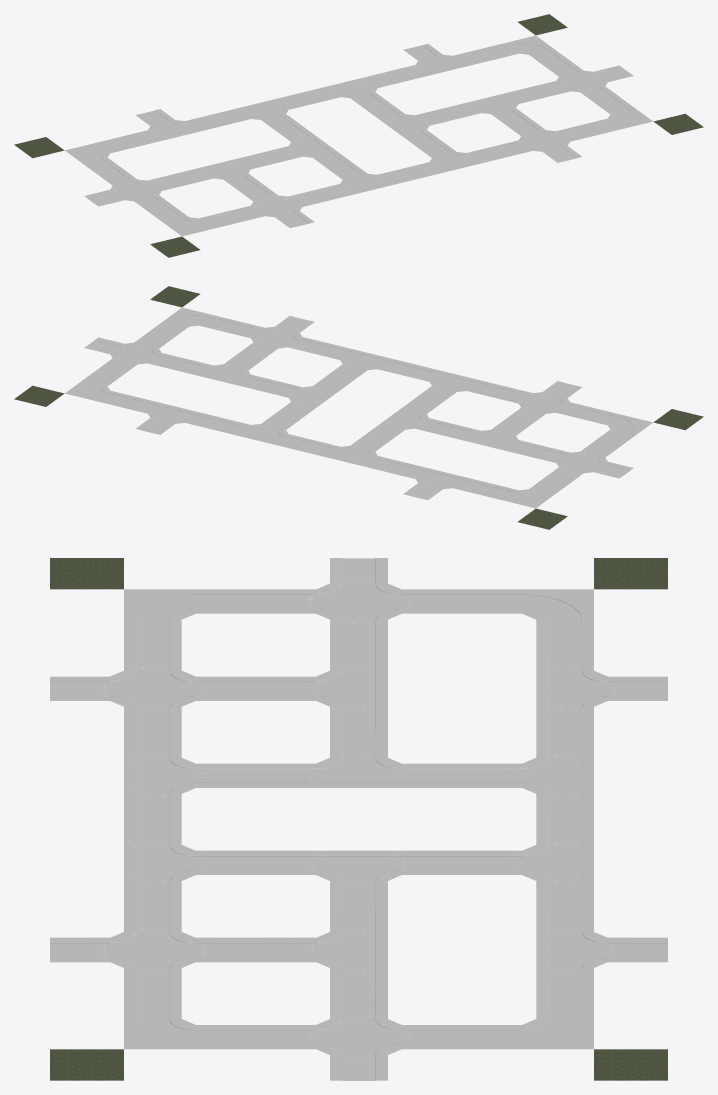
The model's file is Double-Block-13.fbx.
3 renders of one model, top to bottom at view 1: azimuth 30°, elevation 25°; view 2: azimuth 150°, elevation 25°; view 3: azimuth 270°, elevation 25°, orthographic. The views are drawn at different scales.
Visible parts, largest first — view 1: Double-Block-03-B, Double-Block-03, Double-Block-03-Sidewalk, Double-Block-03-Sidewalk-B; view 2: Double-Block-03, Double-Block-03-B, Double-Block-03-Sidewalk-B, Double-Block-03-Sidewalk; view 3: Double-Block-03, Double-Block-03-B, Double-Block-03-Sidewalk-B, Double-Block-03-Sidewalk.
Boxes of the visible parts, box(x1,y1,x2,y2) form: Double-Block-03-B: box(303, 14, 703, 176); Double-Block-03: box(14, 95, 414, 257); Double-Block-03-Sidewalk: box(65, 93, 417, 236); Double-Block-03-Sidewalk-B: box(301, 35, 652, 178); Double-Block-03: box(303, 367, 703, 529); Double-Block-03-B: box(14, 286, 414, 448); Double-Block-03-Sidewalk-B: box(65, 307, 416, 450); Double-Block-03-Sidewalk: box(300, 365, 652, 508); Double-Block-03: box(50, 558, 667, 819); Double-Block-03-B: box(50, 819, 667, 1080); Double-Block-03-Sidewalk-B: box(50, 819, 667, 1080); Double-Block-03-Sidewalk: box(50, 558, 667, 819).
Size of what is drawn, in the model's own units: 600 by 0.1513 by 300.
